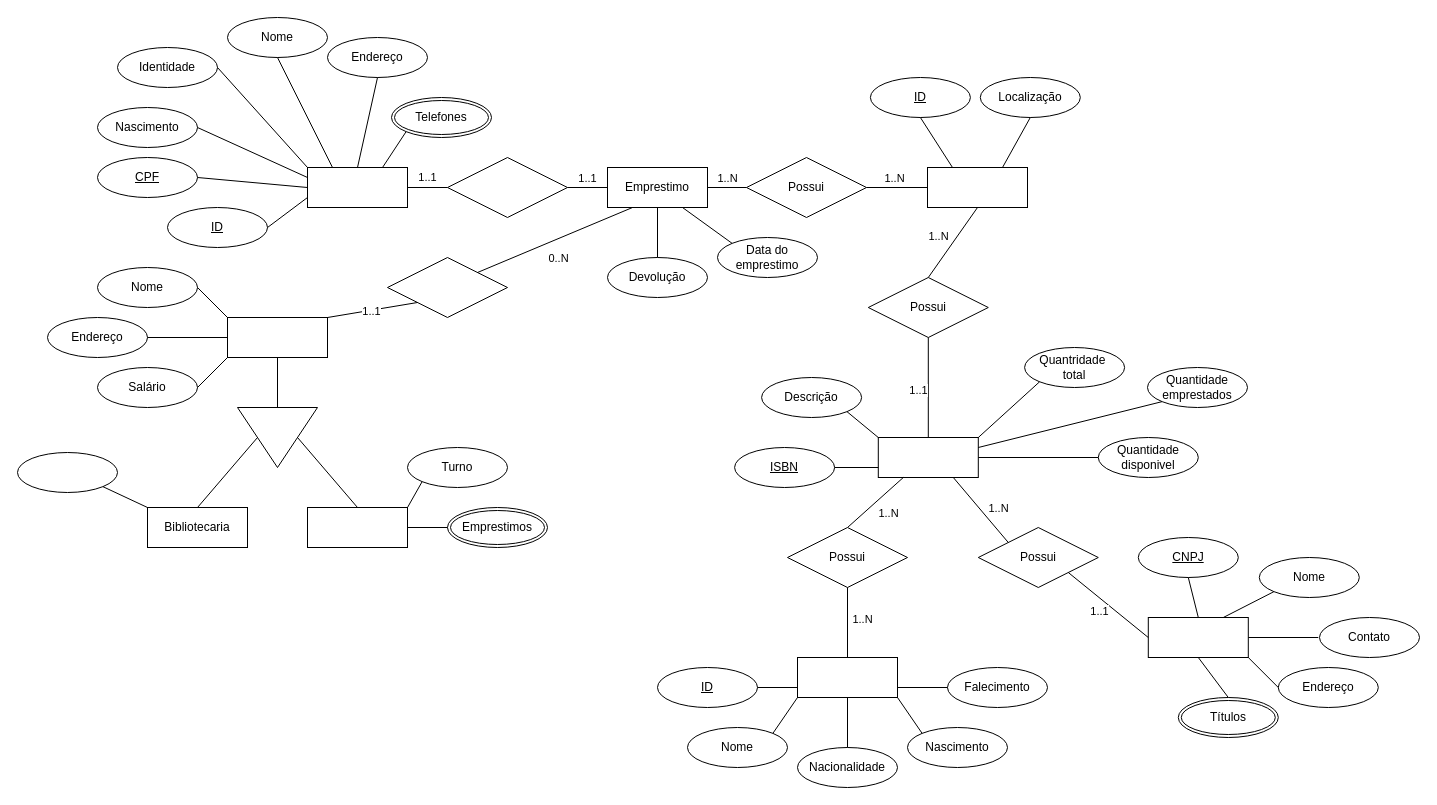
The diagram is 1437 pixels wide and 805 high, and some of its shapes have lost their labels. Each missing label, with the centre of its shape:
Autor: point (847, 677)
Balconista: point (357, 527)
Editora: point (1197, 637)
Exemplar: point (977, 187)
Funcionário: point (277, 337)
ISA: point (277, 437)
Realizam: point (507, 187)
Registrado: point (447, 287)
Registro: point (67, 472)
Socios: point (357, 187)
Titulo: point (927, 457)
